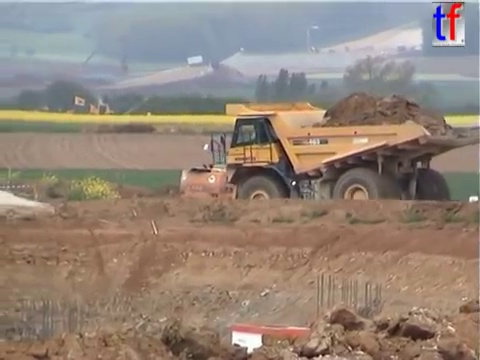excavator: (177, 112, 349, 215)
truck: (208, 97, 478, 228)
